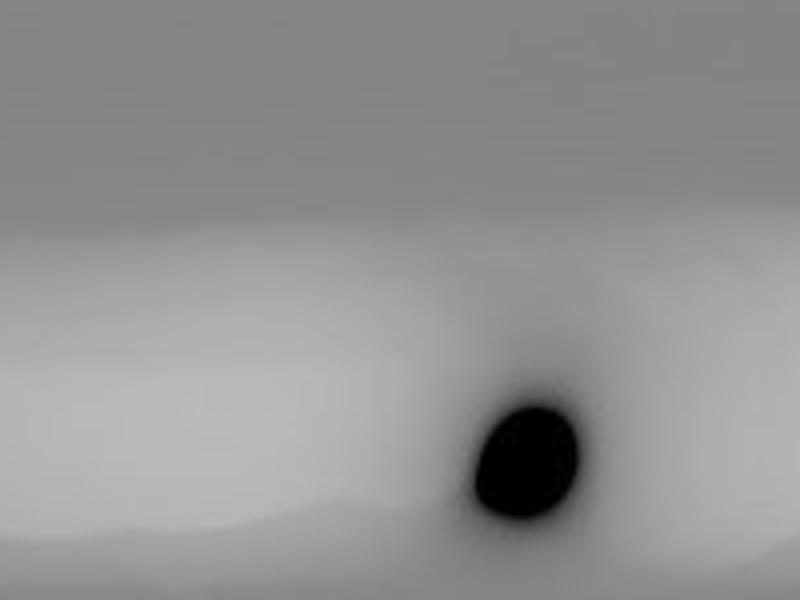defect: (476, 399, 587, 527)
